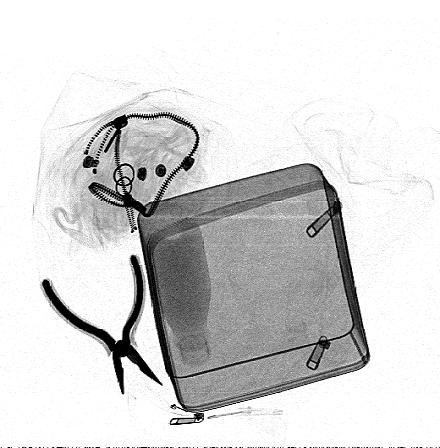Pliers: (39, 253, 164, 396)
